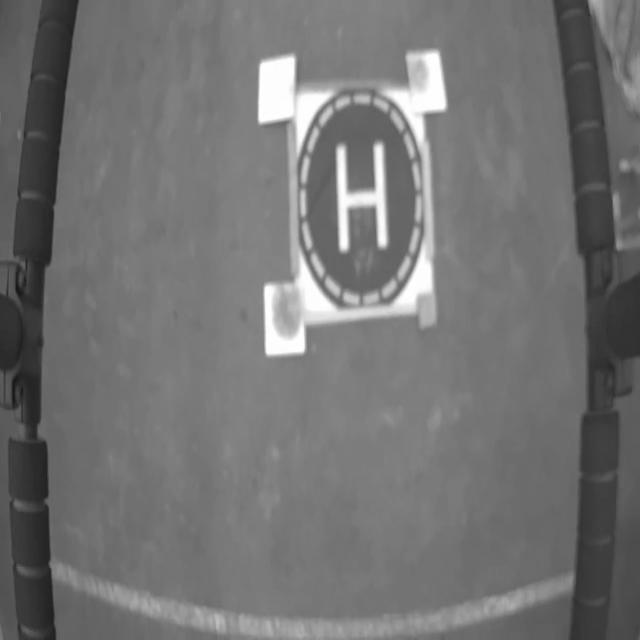Helipad: (335, 142, 389, 255)
